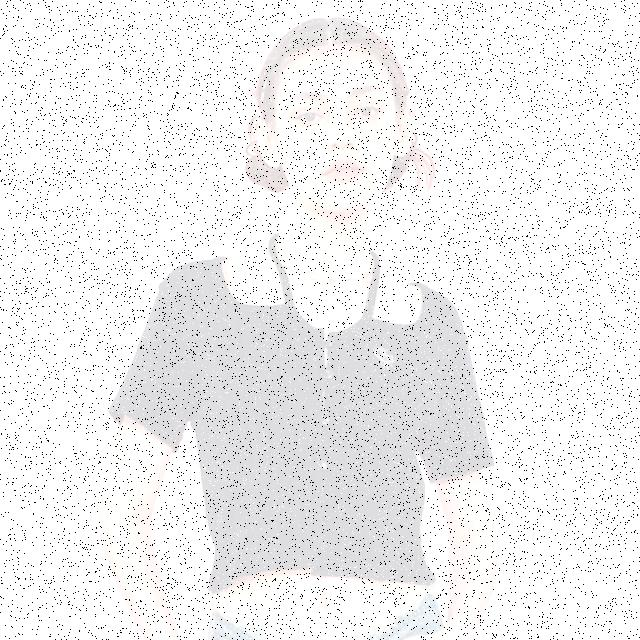Blouse_deep: (108, 230, 494, 590)
